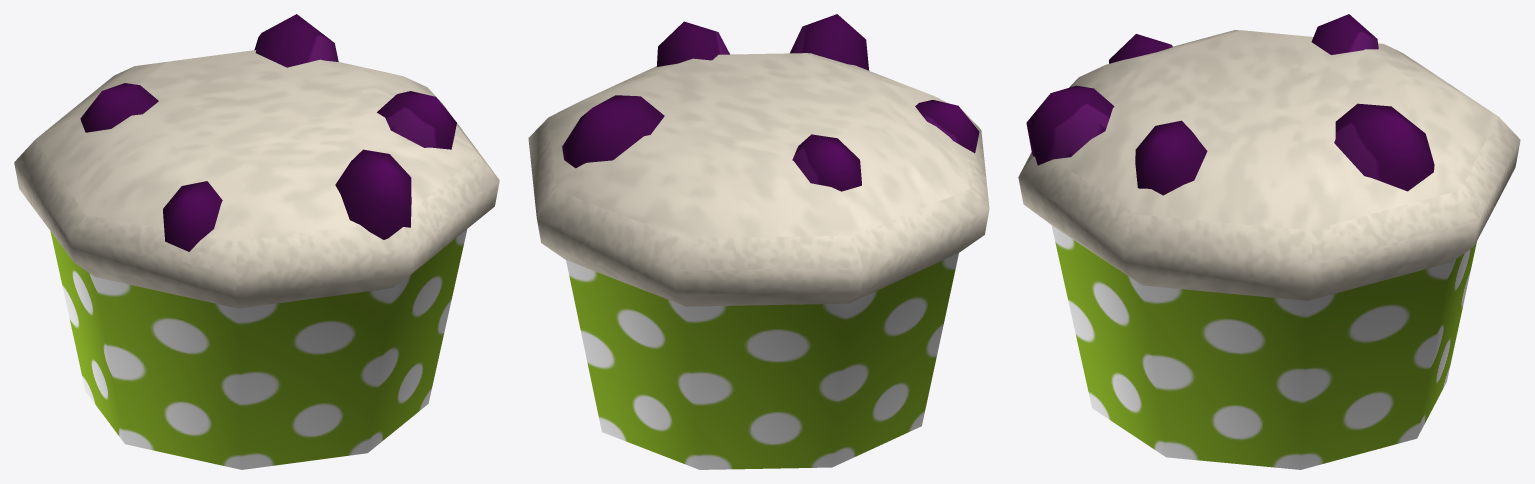
Rendered from Muffin_C_03.FBX.
3 renders of one model, left to right at view 1: azimuth 30°, elevation 25°; view 2: azimuth 150°, elevation 25°; view 3: azimuth 270°, elevation 25°, orthographic. The views are drawn at different scales.
Parts seen in each view (by area): view 1: Muffin; view 2: Muffin; view 3: Muffin.
Part boxes in pixels (x1,y1,x2,y2): Muffin: [14, 14, 499, 469]; Muffin: [528, 14, 989, 469]; Muffin: [1018, 14, 1520, 469].
Bounding box in the file's own units: 36.61 × 26.52 × 36.61.
